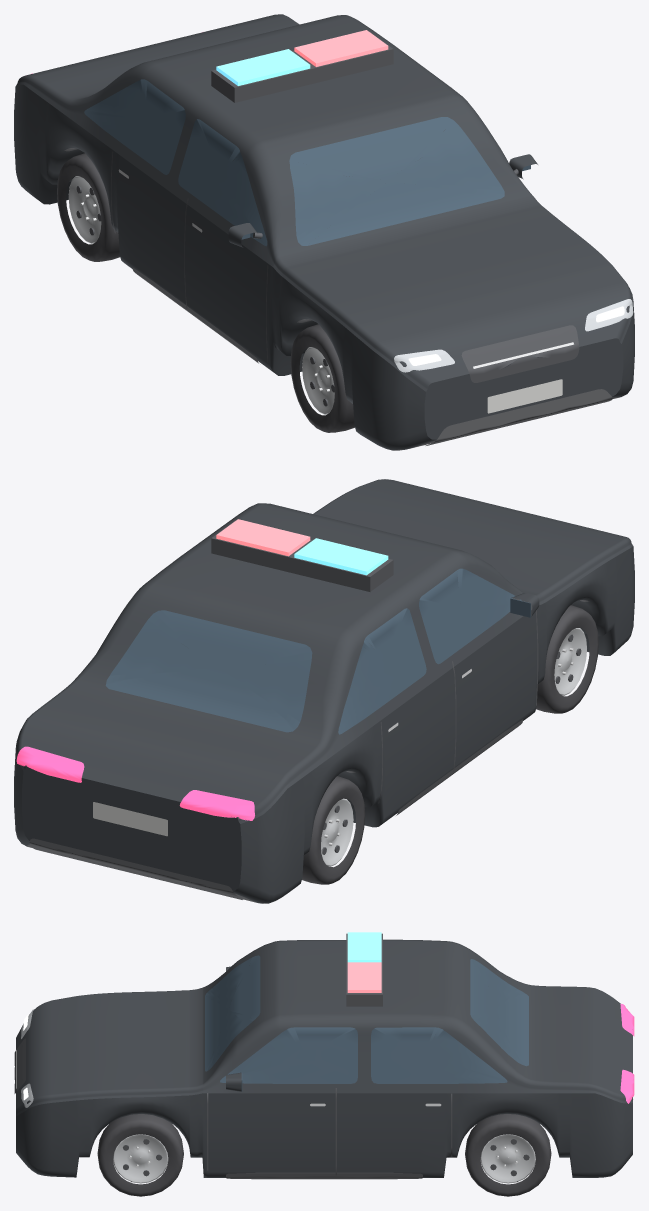
File: car-police.glb
The picture shows the model from 3 angles, top to bottom: view 1: azimuth 30°, elevation 25°; view 2: azimuth 150°, elevation 25°; view 3: azimuth 270°, elevation 25°; orthographic projection. The views are drawn at different scales.
Visible parts, largest first — view 1: car-police; view 2: car-police; view 3: car-police.
Part boxes in pixels (x1,y1,x2,y2): car-police: [14, 14, 634, 450]; car-police: [14, 479, 634, 903]; car-police: [14, 932, 634, 1196].
Size of the model in its own units: 2.1 by 1.58 by 4.73.
